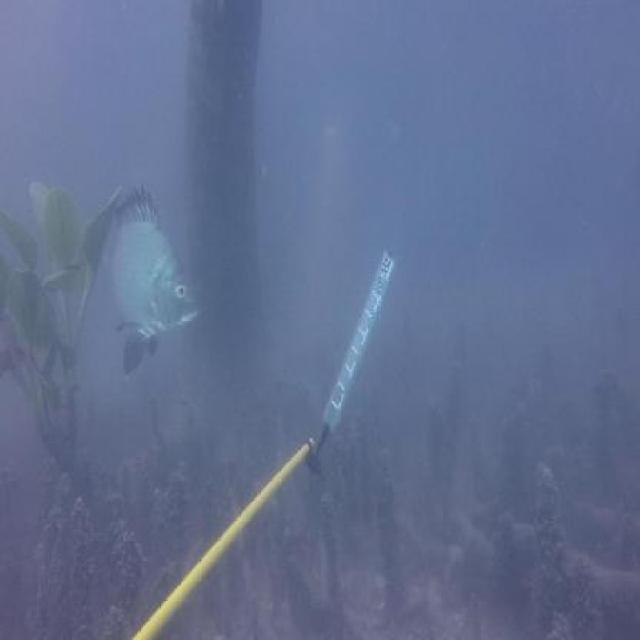acanthopagrus_palmaris: (112, 182, 200, 381)
